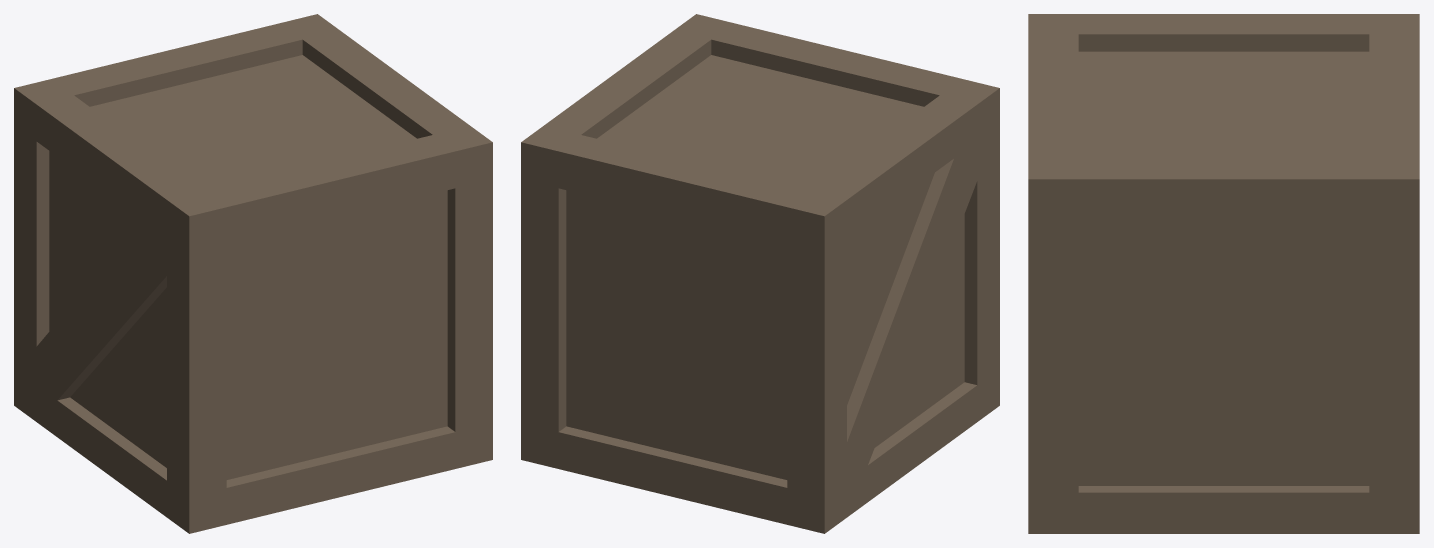
The picture shows the model from 3 angles, left to right: view 1: azimuth 30°, elevation 25°; view 2: azimuth 150°, elevation 25°; view 3: azimuth 270°, elevation 25°; orthographic projection. The views are drawn at different scales.
Parts seen in each view (by area): view 1: box; view 2: box; view 3: box.
Part boxes in pixels (bbox=[...]): box: bbox=[14, 14, 492, 533]; box: bbox=[521, 14, 999, 533]; box: bbox=[1028, 14, 1419, 533].
Bounding box in the file's own units: 0.6412 × 0.6412 × 0.6412.
